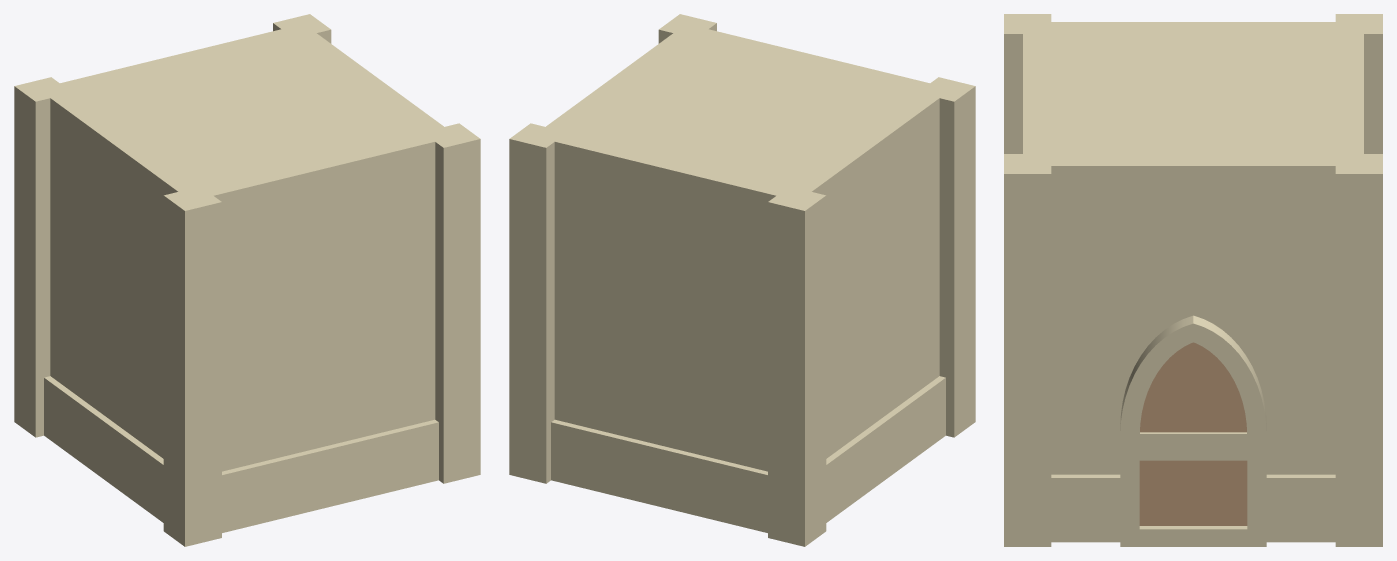
The model's file is towerSquareMidDoor_exclusive.fbx.
3 renders of one model, left to right at view 1: azimuth 30°, elevation 25°; view 2: azimuth 150°, elevation 25°; view 3: azimuth 270°, elevation 25°, orthographic. The views are drawn at different scales.
Parts seen in each view (by area): view 1: towerSquareMidDoor_exclusive; view 2: towerSquareMidDoor_exclusive; view 3: towerSquareMidDoor_exclusive.
Boxes of the visible parts, <box> form: towerSquareMidDoor_exclusive: <box>14,14,480,546</box>; towerSquareMidDoor_exclusive: <box>509,14,975,546</box>; towerSquareMidDoor_exclusive: <box>1004,14,1382,546</box>.
Bounding box in the file's own units: 9.3 × 10.1 × 9.3.
